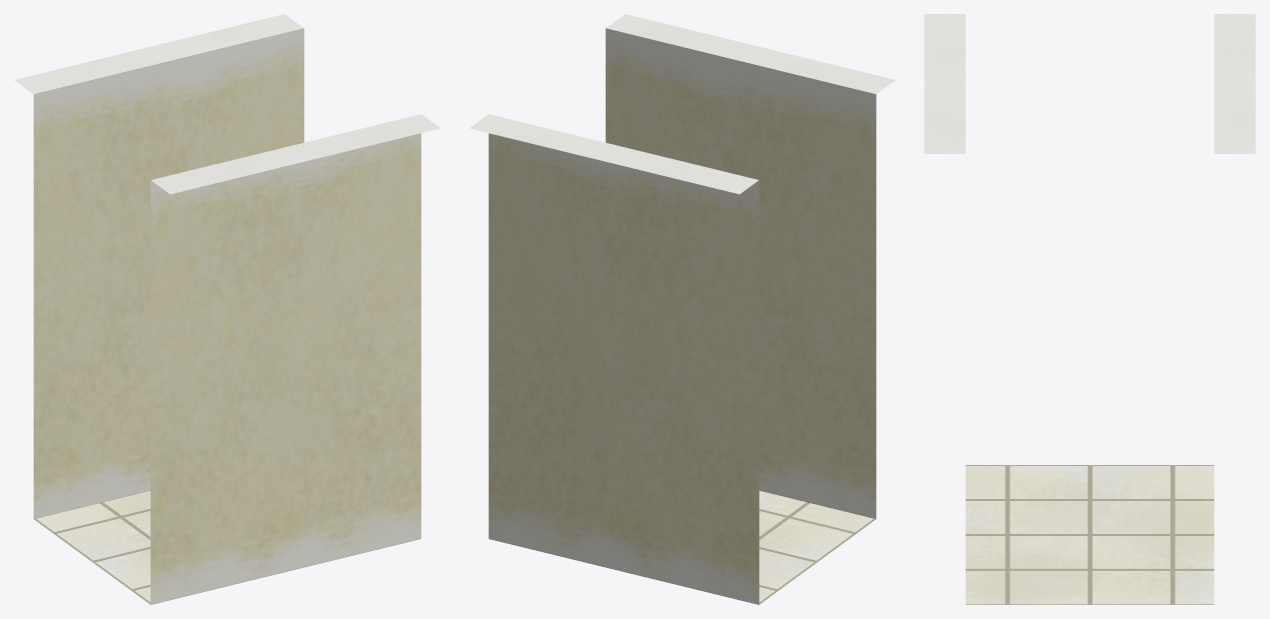
Rendered from maze_2way.FBX.
3 views of the same model, side by side, from view 1: azimuth 30°, elevation 25°; view 2: azimuth 150°, elevation 25°; view 3: azimuth 270°, elevation 25° (orthographic). The views are drawn at different scales.
Visible parts, largest first — view 1: Plane01; view 2: Plane01; view 3: Plane01.
Boxes of the visible parts, x1,y1,x2,y2 form: Plane01: (14,14,440,604); Plane01: (469,14,895,604); Plane01: (924,14,1255,604).
Bounding box in the file's own units: 32 × 48 × 32.
